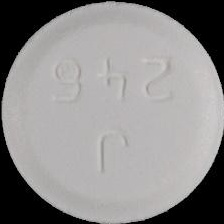59746-246: (0, 0, 224, 224)
